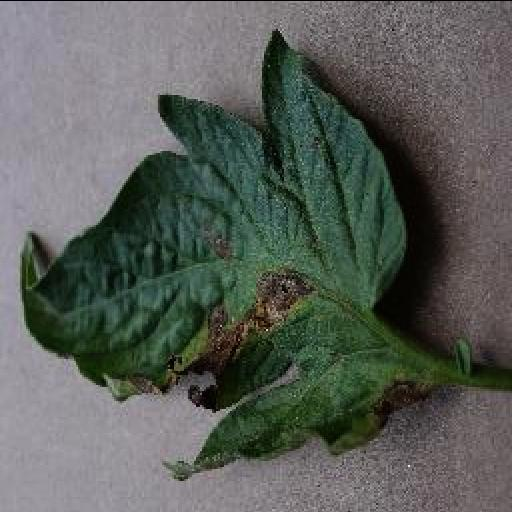disease_tomato: (17, 14, 423, 484)
